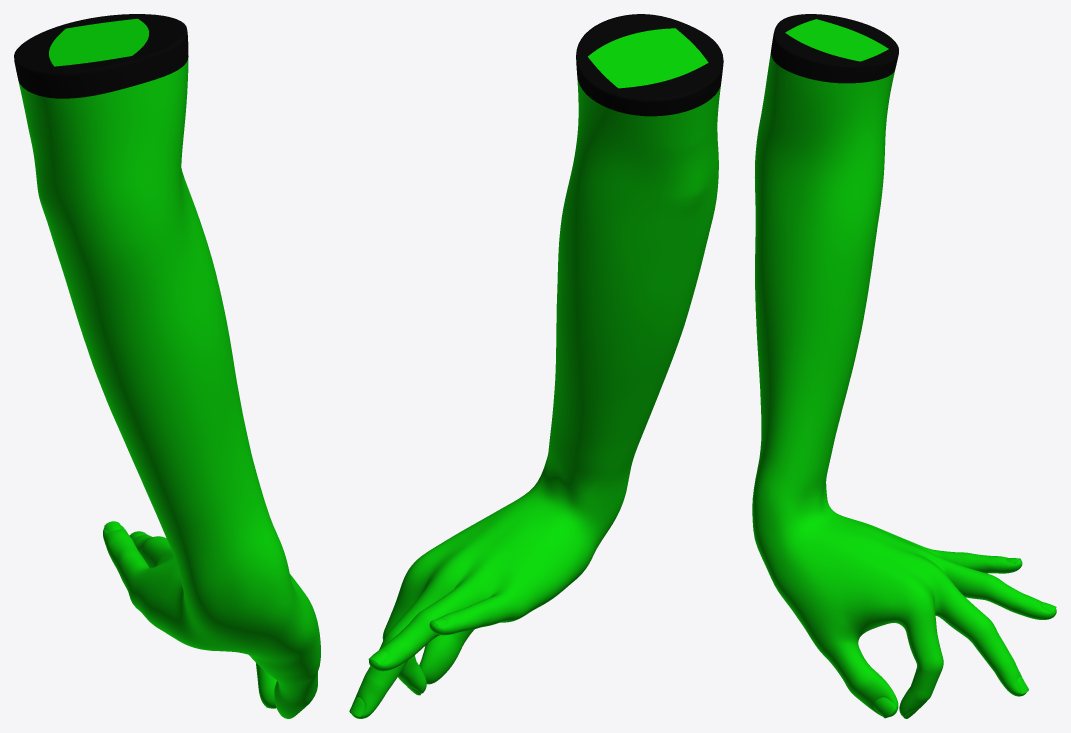
Rendered from DroppingHand_LP.fbx.
3 renders of one model, left to right at view 1: azimuth 30°, elevation 25°; view 2: azimuth 150°, elevation 25°; view 3: azimuth 270°, elevation 25°, orthographic. The views are drawn at different scales.
Parts seen in each view (by area): view 1: DroppingHand_LP; view 2: DroppingHand_LP; view 3: DroppingHand_LP.
Boxes of the visible parts, x1=… form: DroppingHand_LP: x1=14, y1=14, x2=320, y2=718; DroppingHand_LP: x1=349, y1=14, x2=723, y2=718; DroppingHand_LP: x1=752, y1=14, x2=1056, y2=718.
Size of the model in its own units: 3125 by 7195 by 3284.
